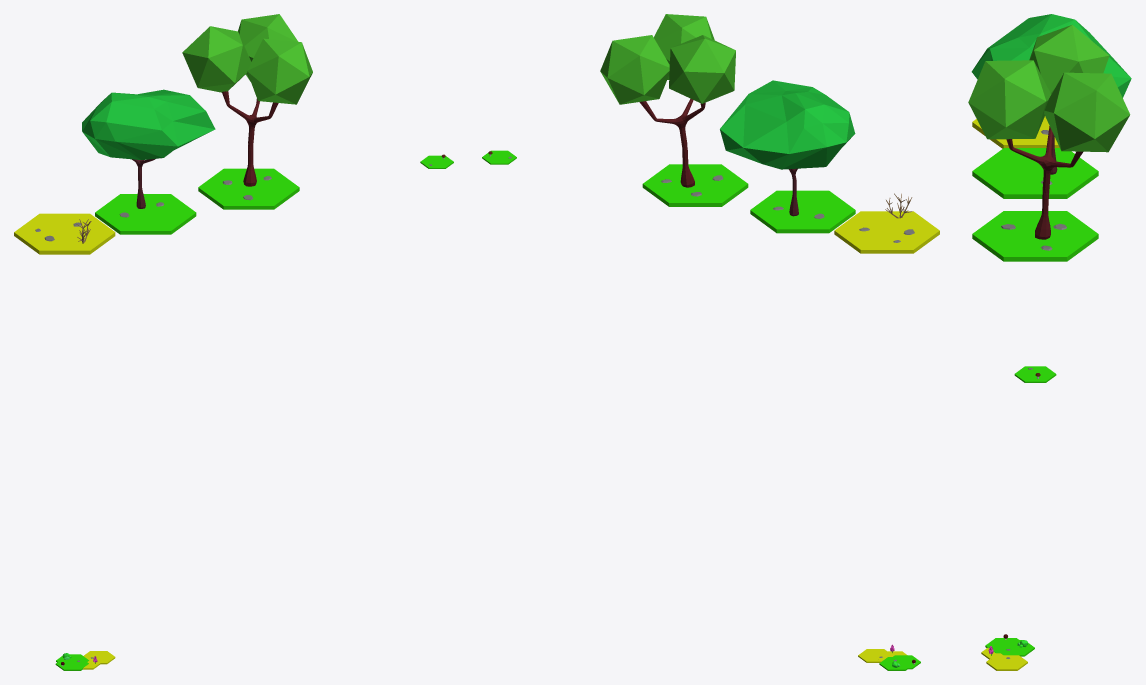
The model's file is green1.0.glb.
3 views of the same model, side by side, from view 1: azimuth 30°, elevation 25°; view 2: azimuth 150°, elevation 25°; view 3: azimuth 270°, elevation 25° (orthographic). The views are drawn at different scales.
Visible parts, largest first — view 1: Icosphere.008, Icosphere.003, Icosphere.001, Cylinder.007, Cylinder.008, Cylinder.009, Icosphere.002, Cube.001; view 2: Icosphere.008, Icosphere.002, Icosphere.001, Cylinder.007, Cylinder.008, Cylinder.009, Icosphere.003, Cube.001; view 3: Icosphere.002, Icosphere.003, Cylinder.009, Cylinder.008, Icosphere.001, Icosphere.008, Cube.001, Cylinder.007, Cylinder.013, Cylinder.026, Cylinder.030, Cylinder.002.
Boxes of the visible parts, x1,y1,x2,y2 form: Icosphere.008: (82,89,215,160); Icosphere.003: (247,38,312,104); Icosphere.001: (182,26,251,92); Cylinder.007: (14,213,115,254); Cylinder.008: (95,194,196,234); Cylinder.009: (198,168,299,209); Icosphere.002: (238,14,298,81); Cube.001: (222,91,278,186); Icosphere.008: (720,80,855,169); Icosphere.002: (600,35,669,104); Icosphere.001: (669,35,735,103); Cylinder.007: (834,211,939,253); Cylinder.008: (750,190,855,233); Cylinder.009: (642,164,748,206); Icosphere.003: (654,14,714,79); Cube.001: (639,98,705,187); Icosphere.002: (1044,72,1130,152); Icosphere.003: (968,60,1051,139); Cylinder.009: (972,211,1098,261); Cylinder.008: (972,148,1098,198); Icosphere.001: (1029,24,1109,94); Icosphere.008: (971,14,1131,97); Cube.001: (1006,126,1083,239); Cylinder.007: (972,116,1059,148); Cylinder.013: (1014,366,1056,382); Cylinder.026: (993,640,1034,656); Cylinder.030: (985,634,1023,653); Cylinder.002: (986,655,1027,670).
Bounding box in the file's own units: 15.95 × 20.88 × 4.28.
